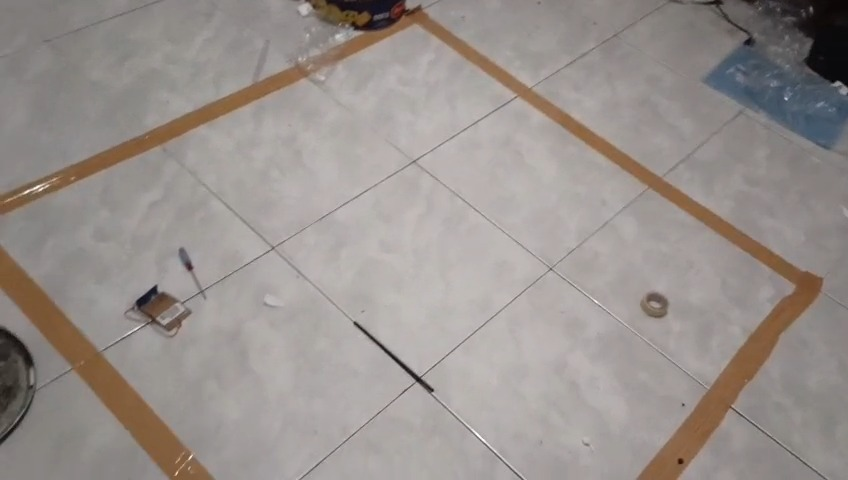floor marking: (336, 12, 822, 477), (0, 245, 210, 479), (0, 67, 304, 213)
